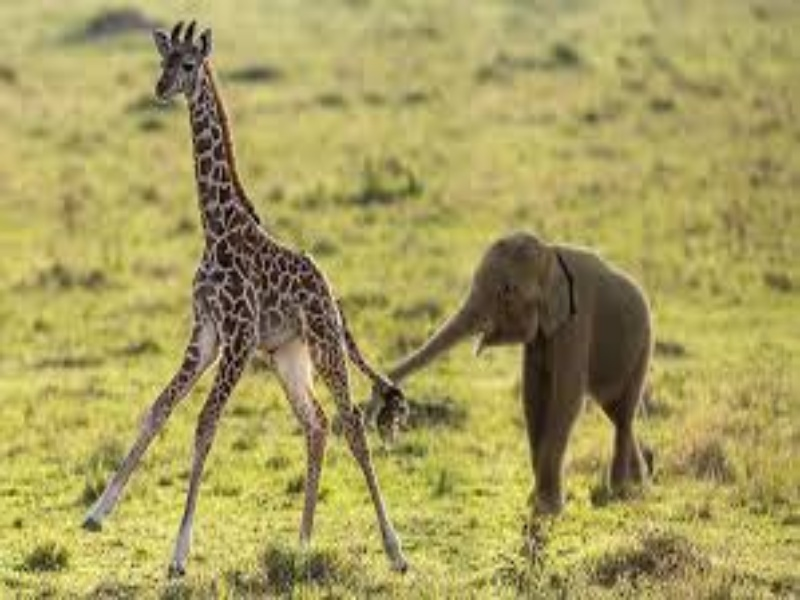elephant: (396, 234, 656, 515)
